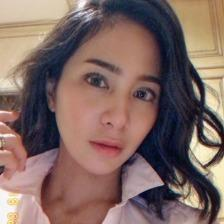Non hijab: (9, 0, 219, 220)
